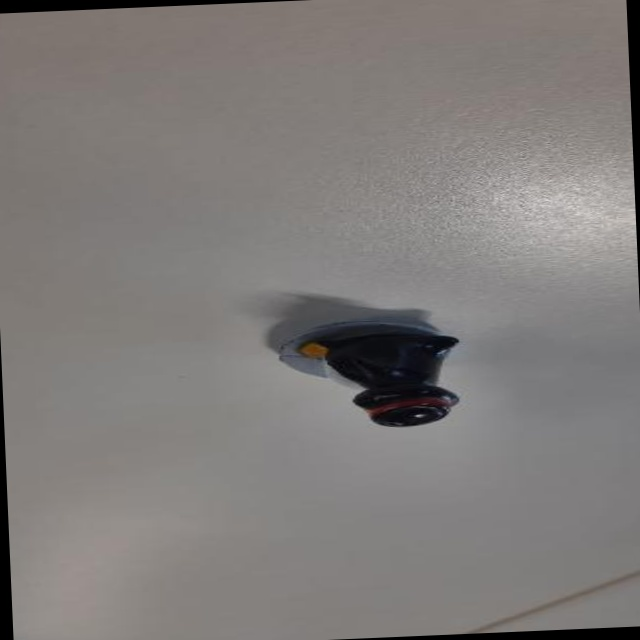Penguin: (263, 302, 479, 442)
